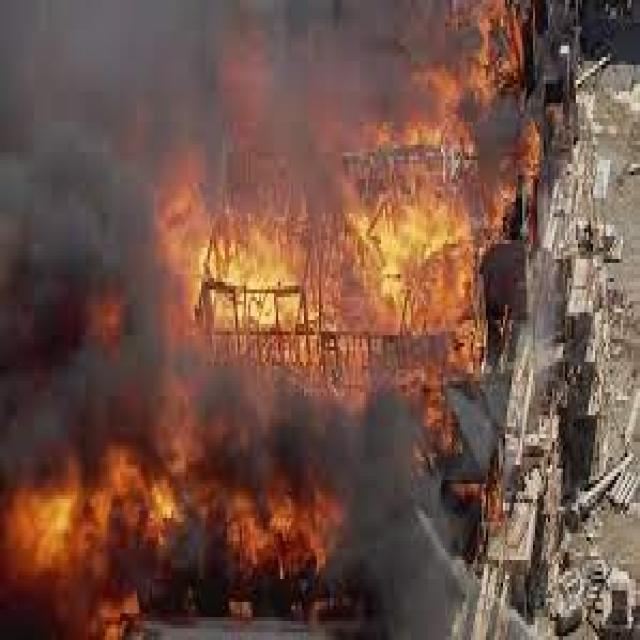Fire: (0, 503, 313, 621), (212, 246, 489, 368)
Smoke: (0, 282, 452, 554), (0, 0, 541, 193)
